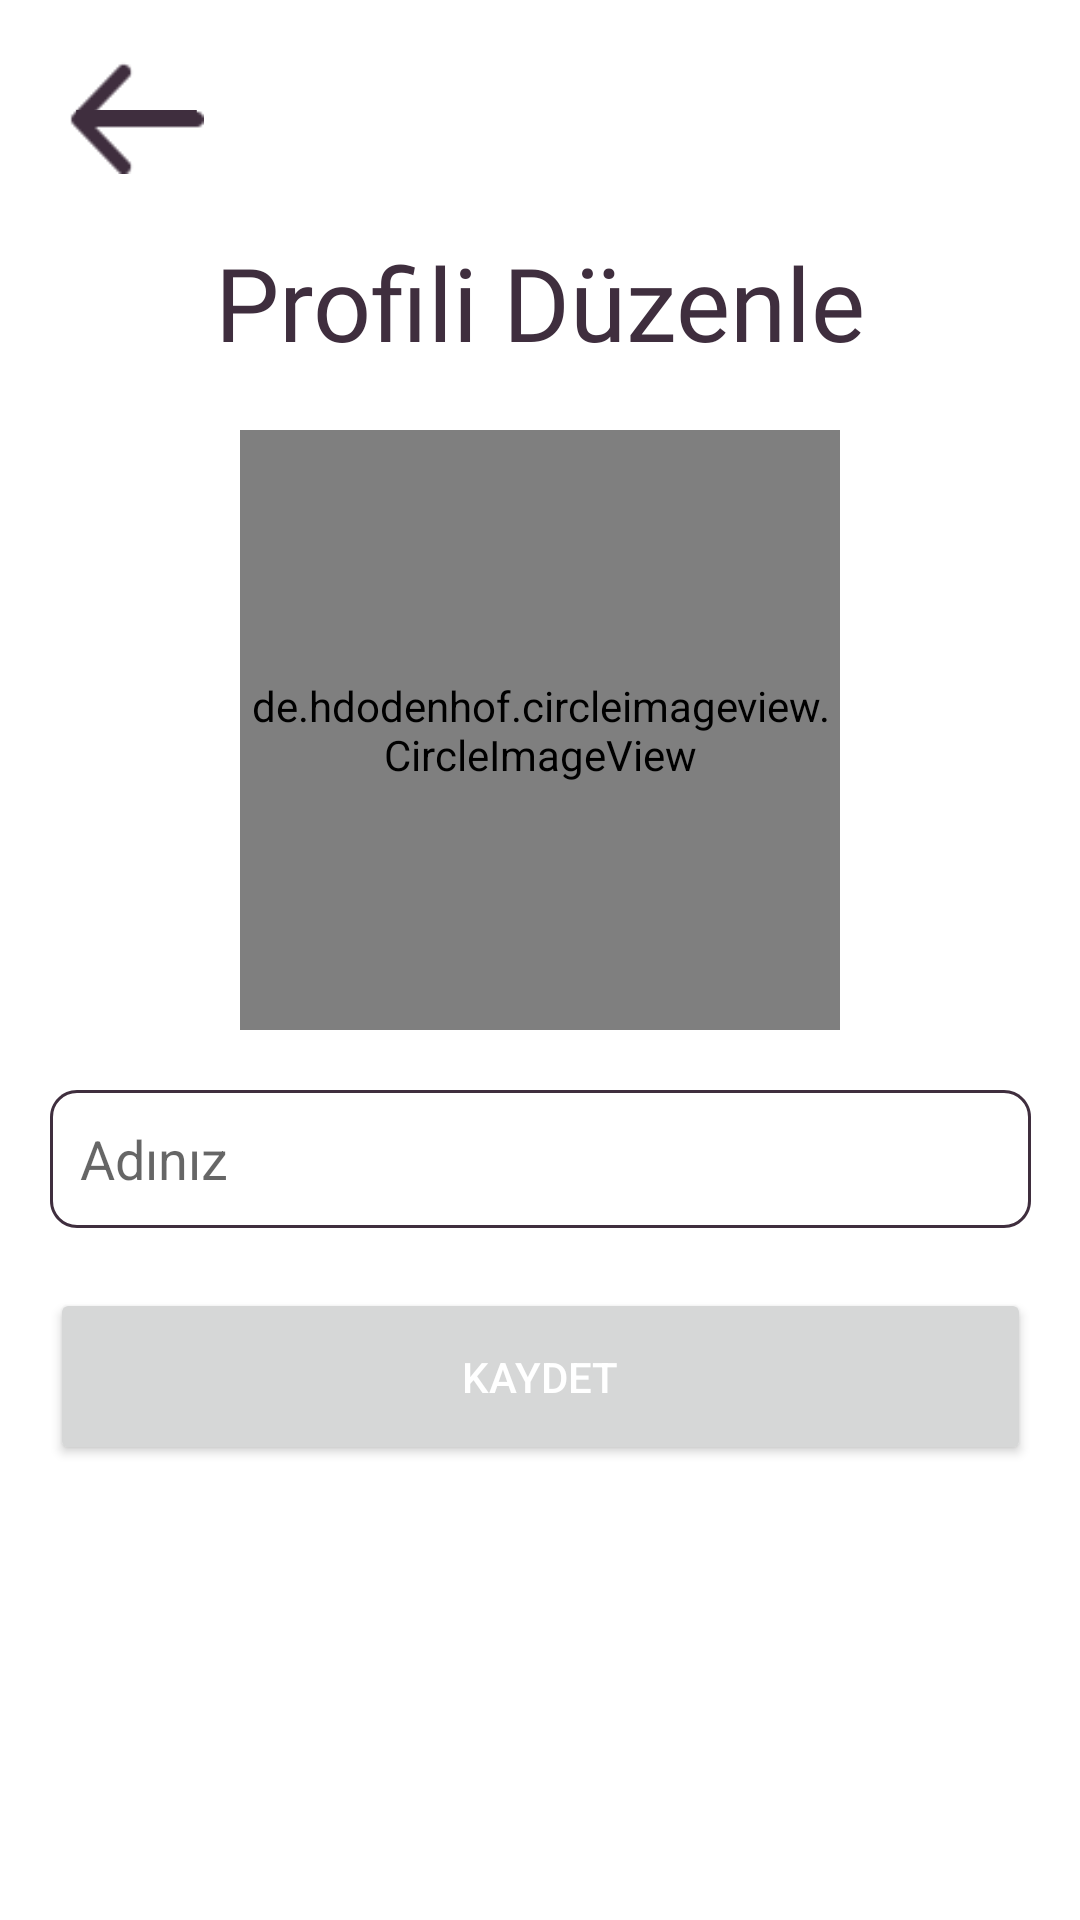

Icon bounding boxes for this 1080 × 1920 phone screenshot, format detection(x1, y1, x2, y2):
geri: detection(70, 64, 204, 174)
